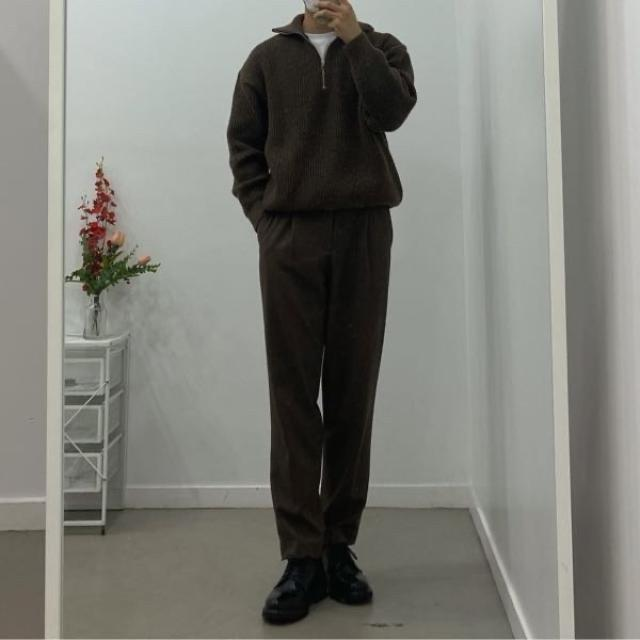slacks: (259, 203, 391, 561)
sweater: (226, 12, 418, 227)
